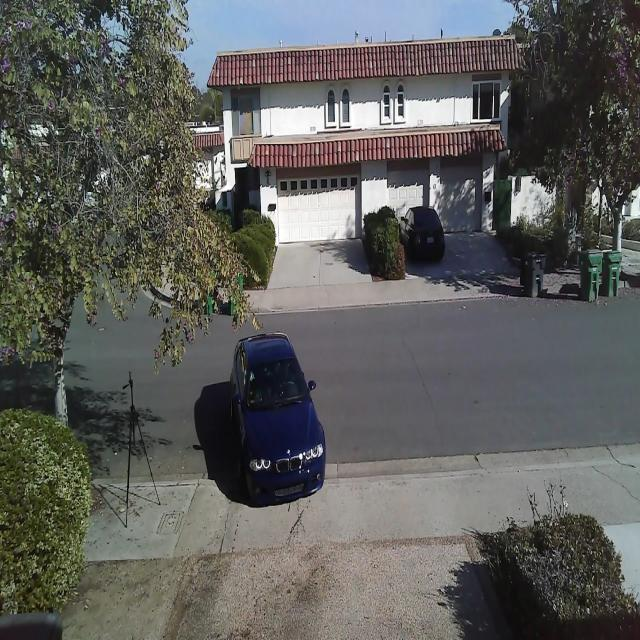Carbeetle: (213, 316, 335, 532)
